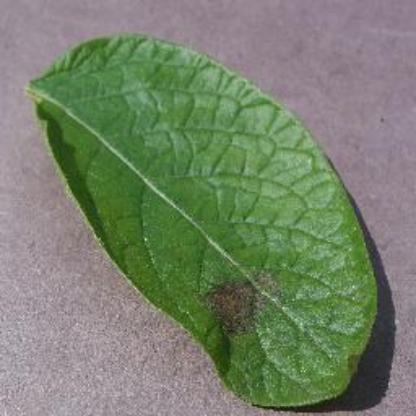Late-Blight: (19, 31, 384, 407)
